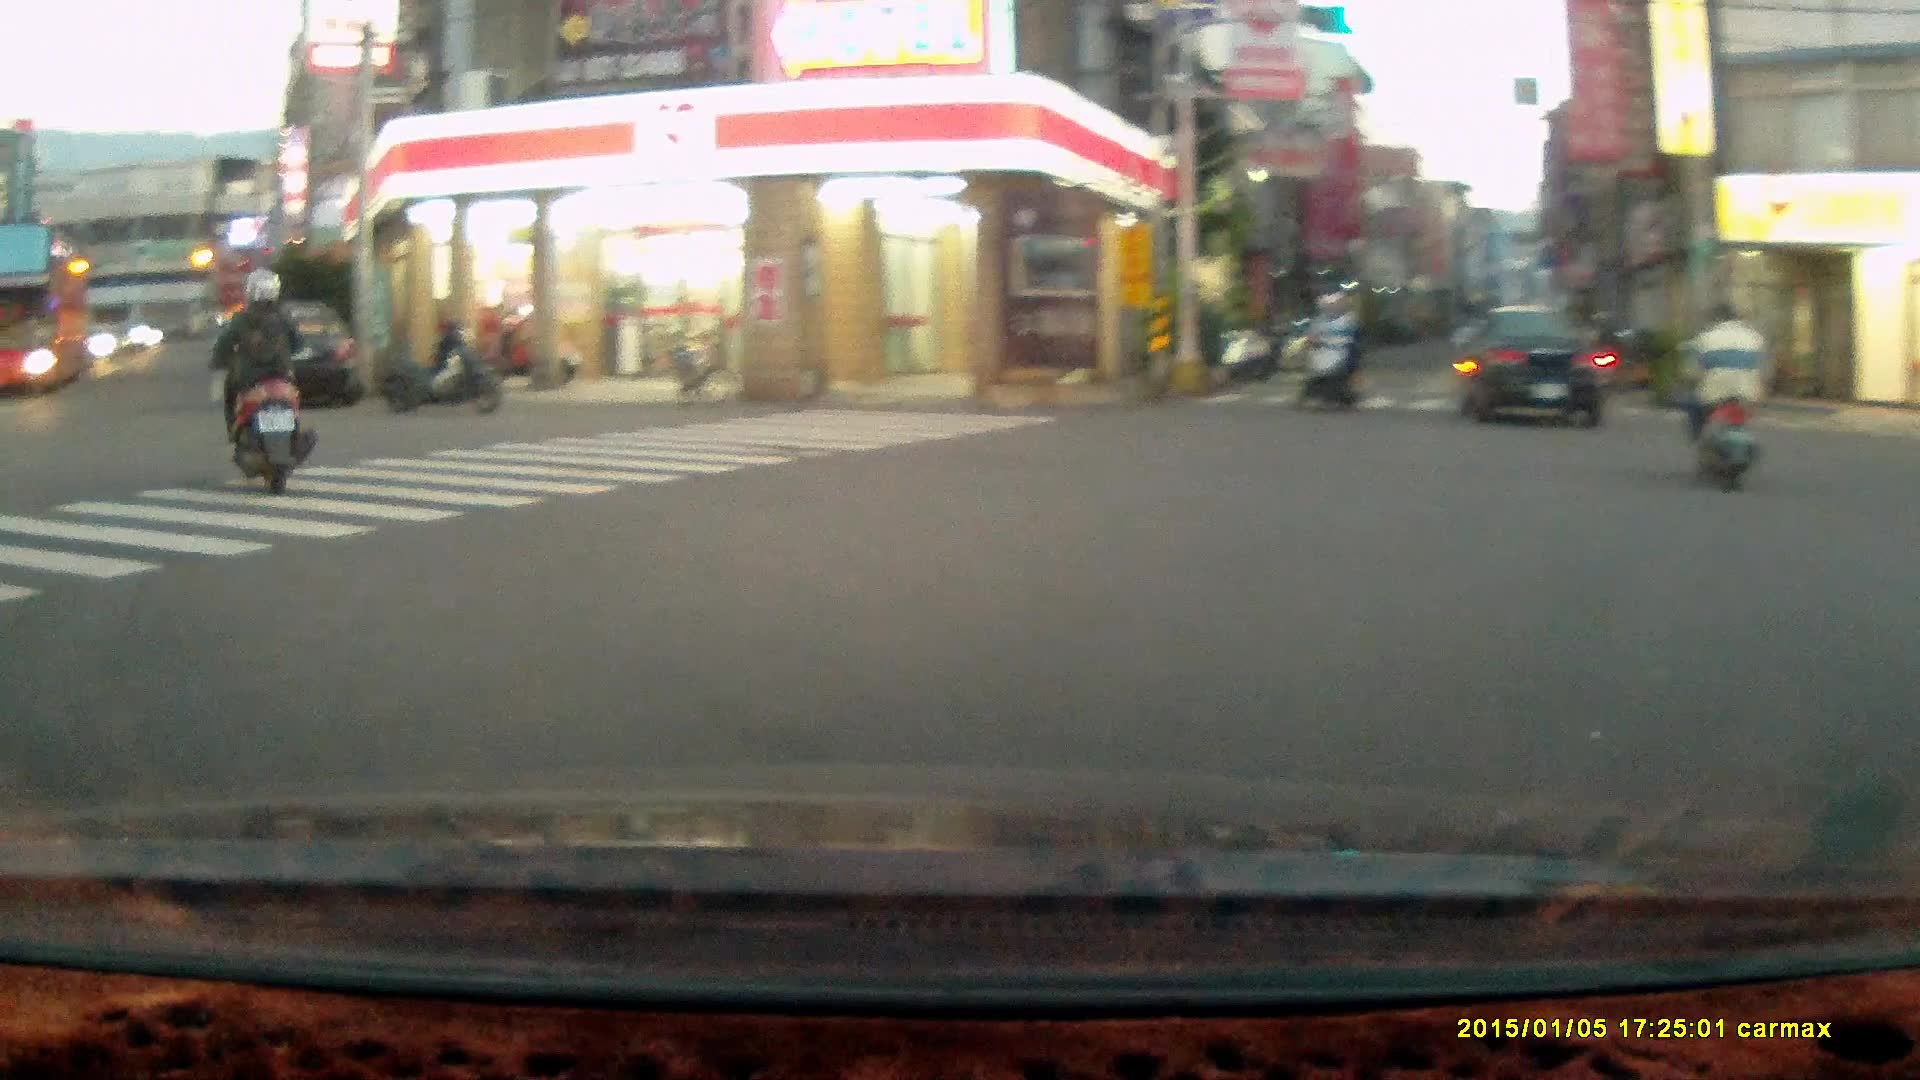rider: (210, 266, 315, 494), (1675, 294, 1770, 493), (1292, 288, 1362, 417)
vehicle: (1454, 303, 1617, 429), (1, 215, 93, 401), (230, 297, 366, 403)
